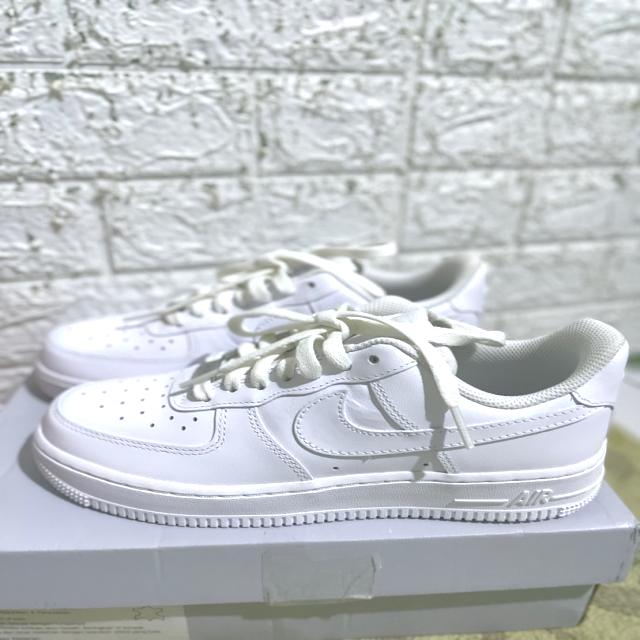nike_original_airforce: (25, 312, 630, 530), (29, 244, 512, 402)
